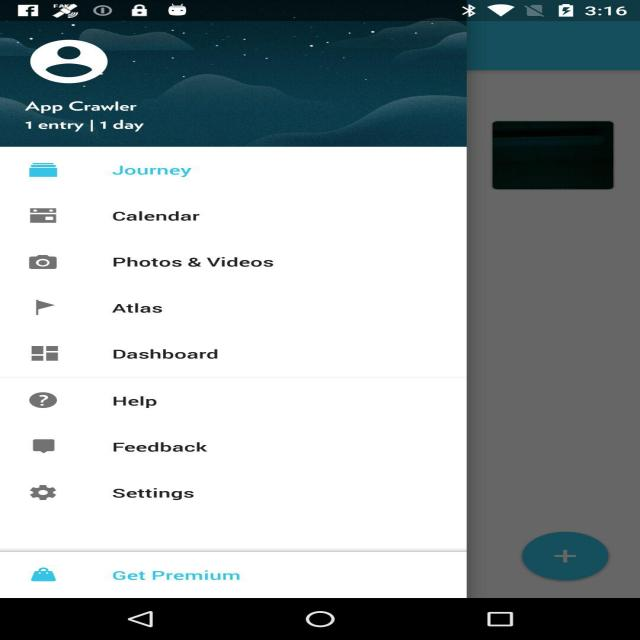button: (6, 149, 367, 598)
icon: (14, 39, 123, 89)
text: (14, 98, 158, 137)
